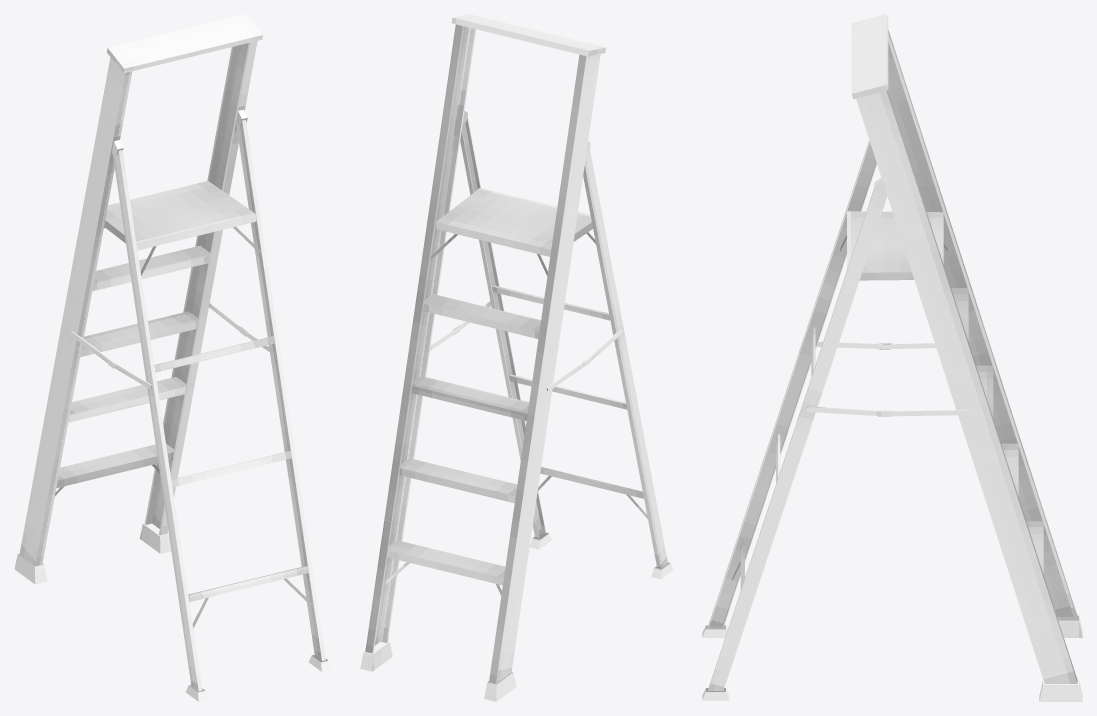
File: StepLadder.glb
3 views of the same model, side by side, from view 1: azimuth 30°, elevation 25°; view 2: azimuth 150°, elevation 25°; view 3: azimuth 270°, elevation 25° (orthographic). The views are drawn at different scales.
Parts seen in each view (by area): view 1: StepLadder; view 2: StepLadder; view 3: StepLadder.
Boxes of the visible parts, x1,y1,x2,y2 form: StepLadder: [14, 14, 331, 701]; StepLadder: [360, 14, 673, 701]; StepLadder: [702, 14, 1082, 701].
Size of the model in its own units: 0.4416 by 1.8 by 1.
1 material, 1 textured.
